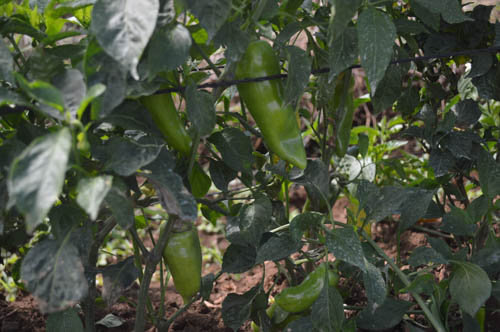ChiliPepper: (241, 43, 309, 168), (139, 84, 195, 152), (158, 227, 205, 295), (271, 265, 342, 309), (317, 79, 351, 155)
